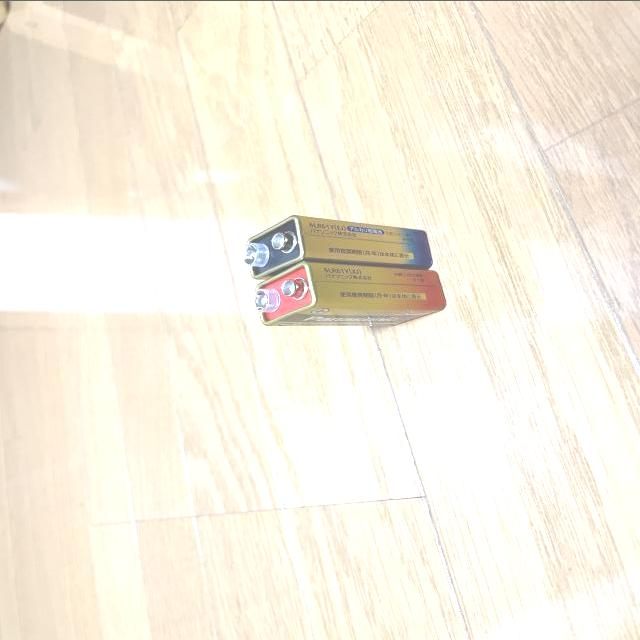9V: (253, 259, 446, 326), (246, 212, 431, 279)
